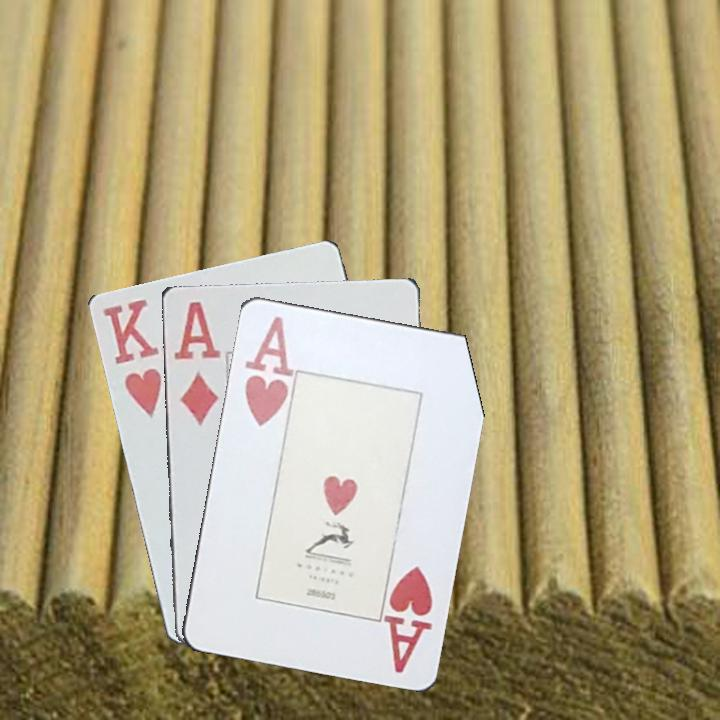Ad: (170, 298, 223, 429)
Ah: (240, 312, 293, 429), (382, 562, 435, 676)
Kh: (99, 295, 164, 422)
